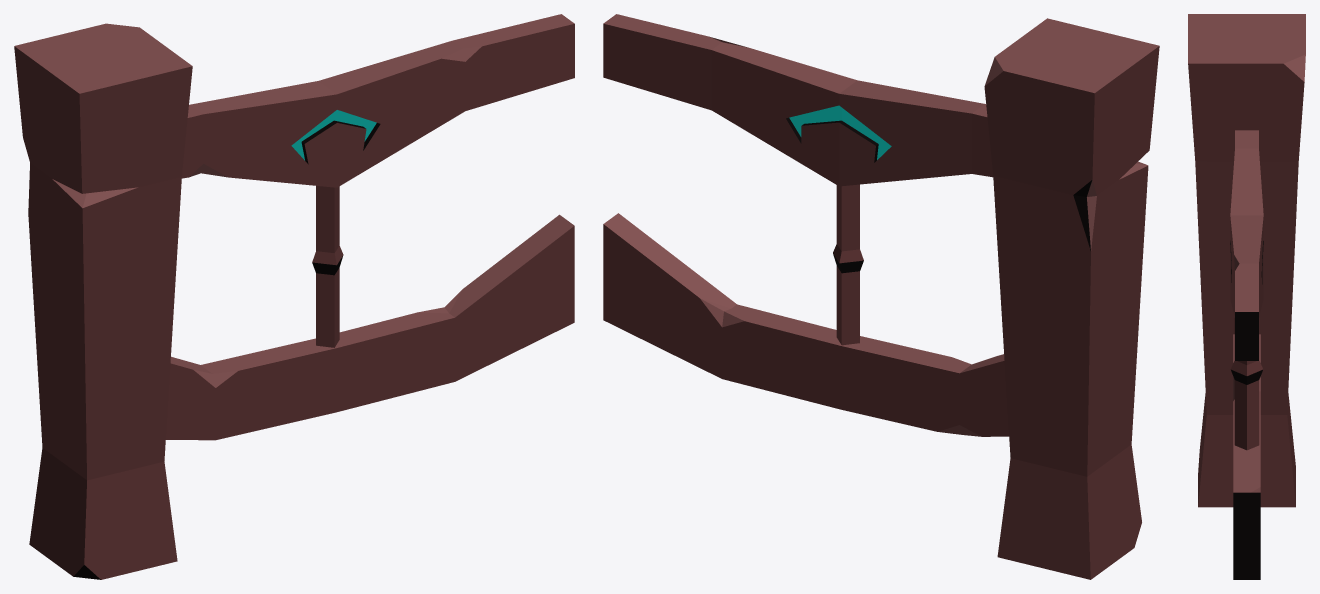
The model's file is FenceWoodSmall_01.glb.
The picture shows the model from 3 angles, left to right: view 1: azimuth 30°, elevation 25°; view 2: azimuth 150°, elevation 25°; view 3: azimuth 270°, elevation 25°; orthographic projection. The views are drawn at different scales.
Parts seen in each view (by area): view 1: FenceWoodSmall_01; view 2: FenceWoodSmall_01; view 3: FenceWoodSmall_01.
Part boxes in pixels (x1=…): FenceWoodSmall_01: x1=14, y1=14, x2=574, y2=579; FenceWoodSmall_01: x1=603, y1=14, x2=1159, y2=579; FenceWoodSmall_01: x1=1188, y1=14, x2=1305, y2=579.
Size of what is drawn, in the model's own units: 1.22 by 1.11 by 0.2653.
Materials: 2 (2 with a texture image).
